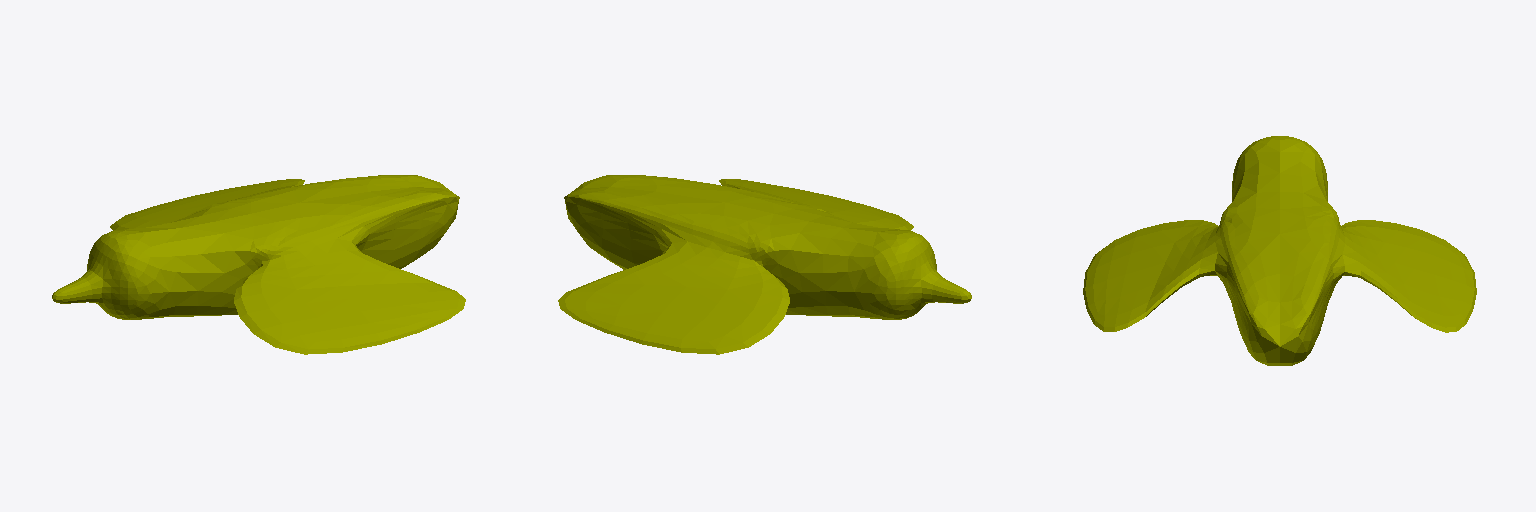
The model's file is bird_000002.obj.
3 renders of one model, left to right at view 1: azimuth 30°, elevation 25°; view 2: azimuth 150°, elevation 25°; view 3: azimuth 270°, elevation 25°, orthographic.
Parts seen in each view (by area): view 1: Cube; view 2: Cube; view 3: Cube.
Boxes of the visible parts, x1,y1,x2,y2 form: Cube: [52, 175, 465, 354]; Cube: [558, 175, 971, 354]; Cube: [1083, 136, 1476, 365].
Bounding box in the file's own units: 0.3355 × 0.083 × 0.2807.